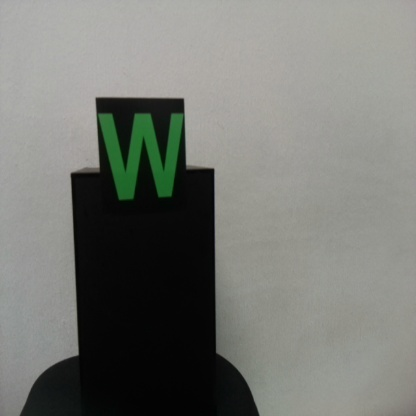id_12: (97, 97, 187, 216)
